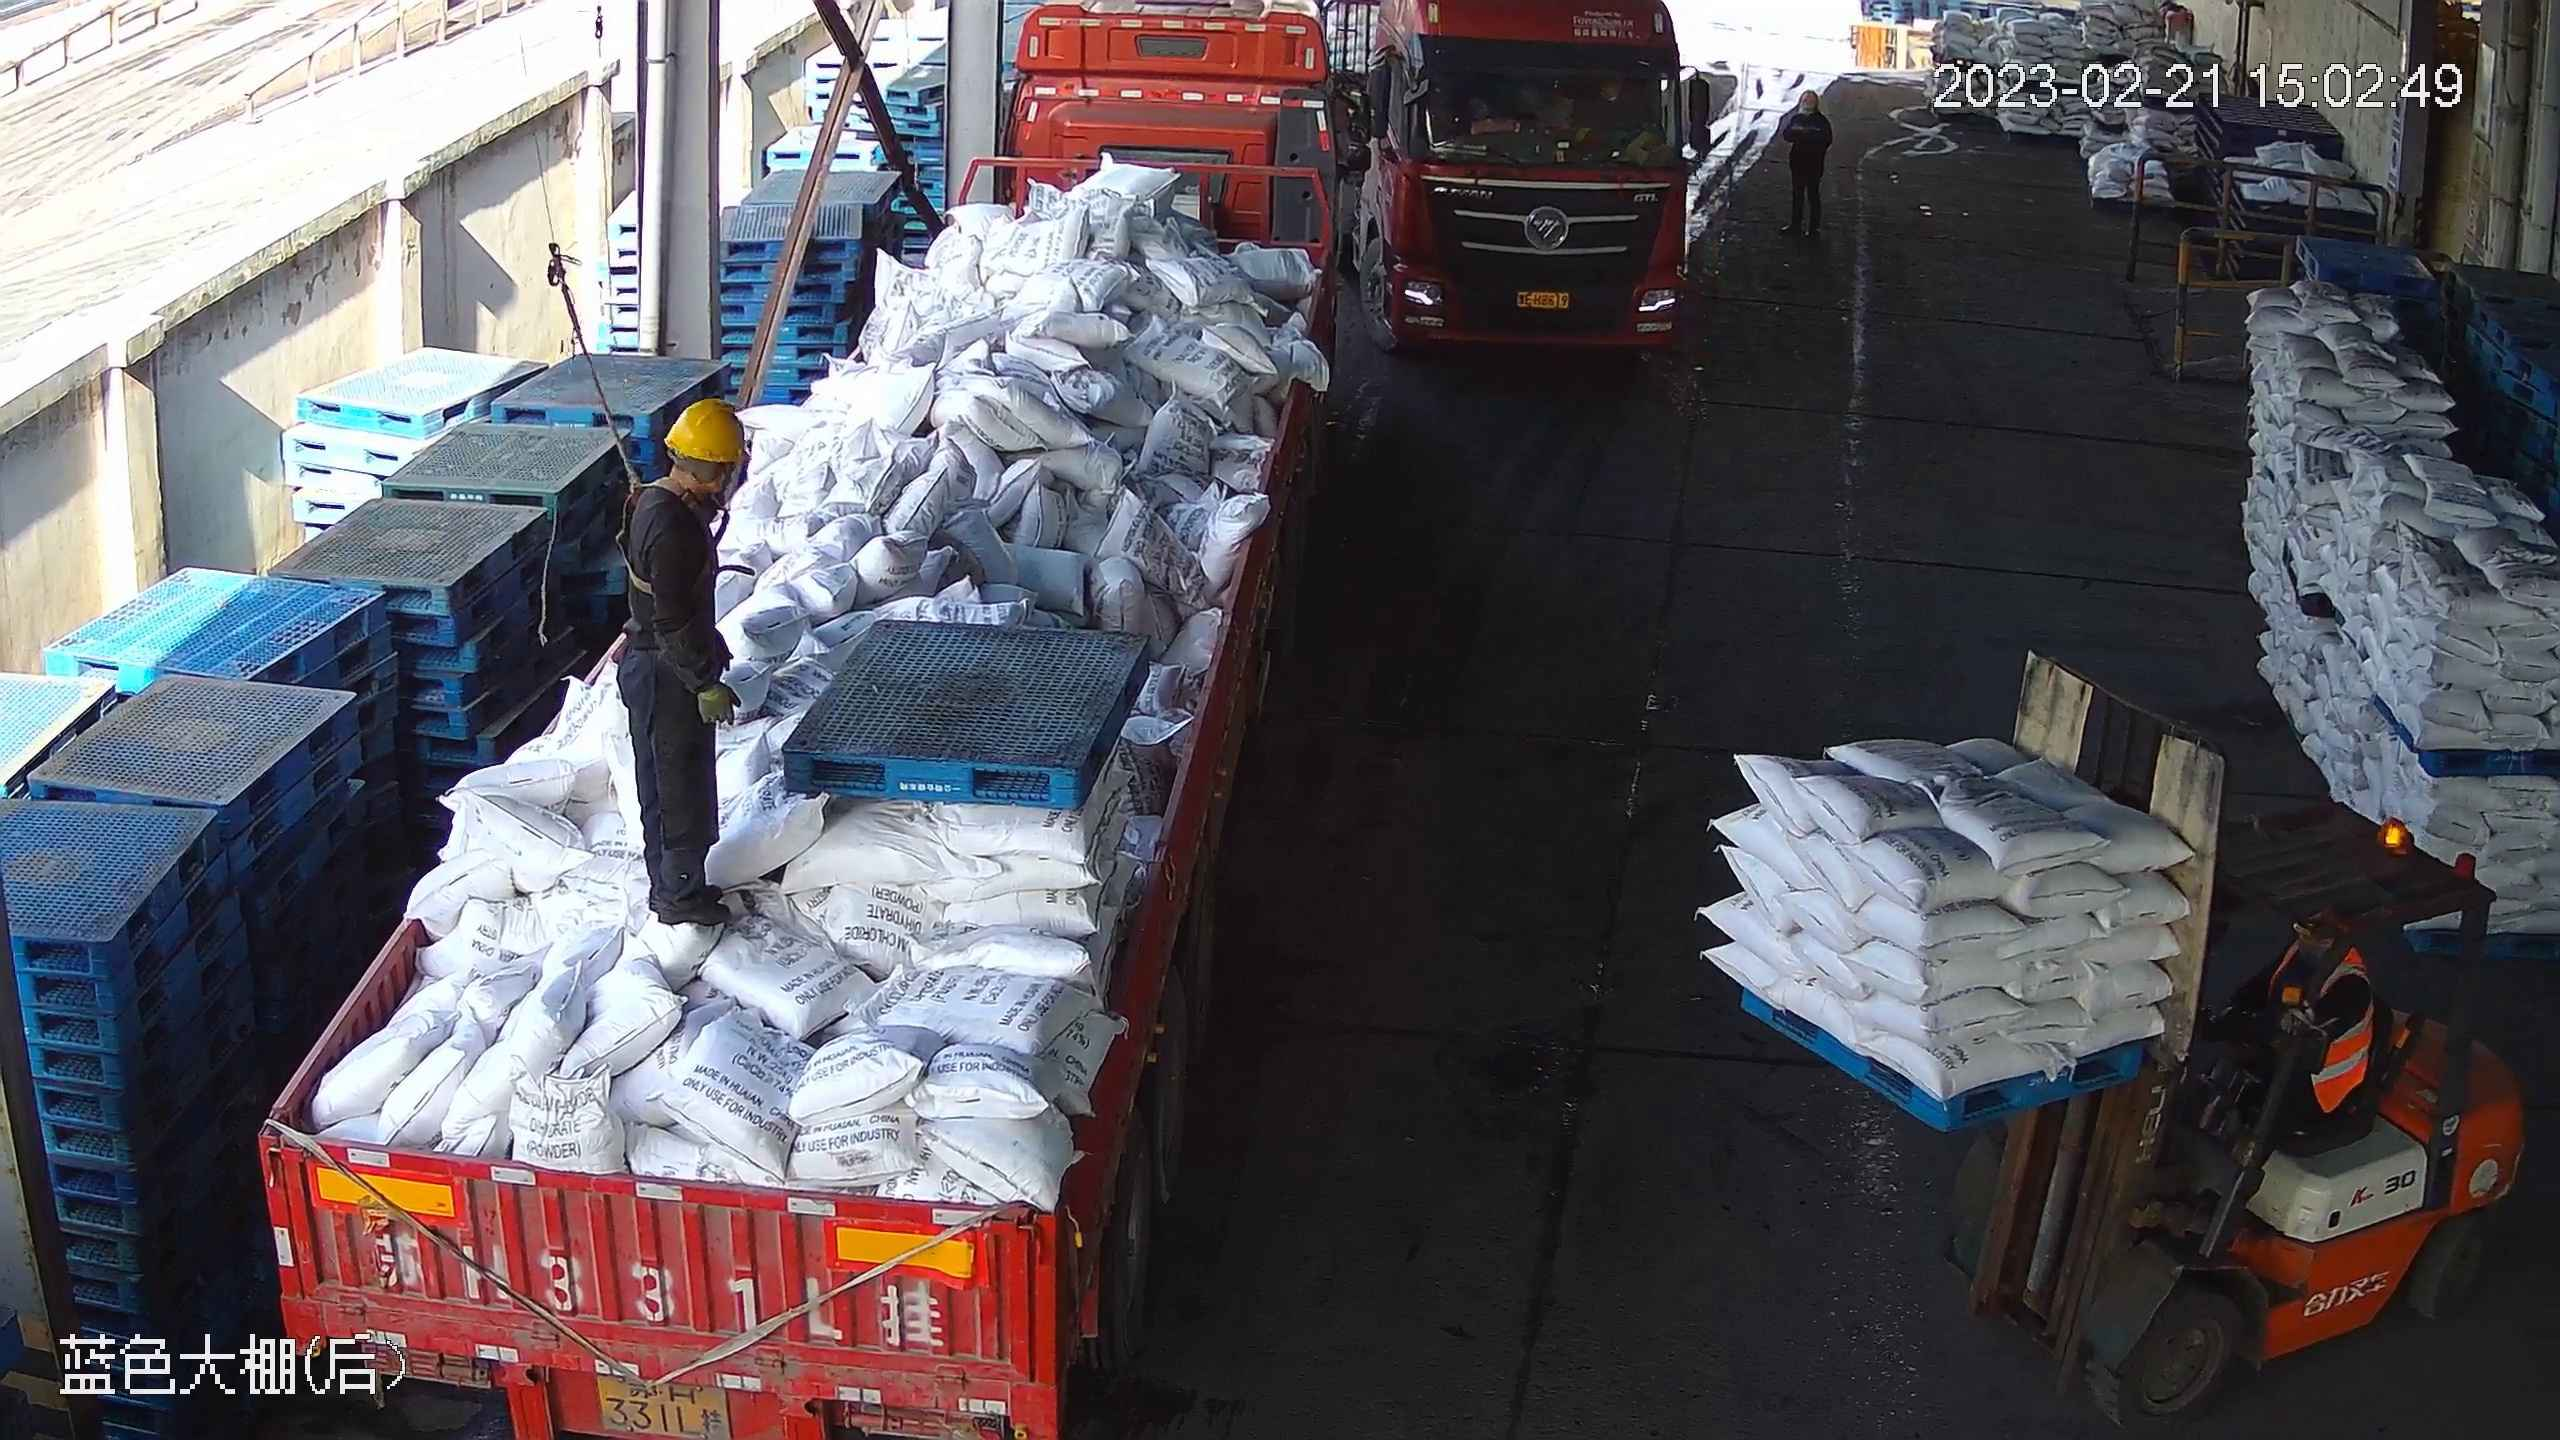belt: (600, 483, 716, 608)
head: (620, 402, 749, 550), (1786, 86, 1828, 139)
helmet: (663, 401, 748, 469), (1795, 88, 1818, 109)
people: (601, 402, 751, 937), (1777, 85, 1834, 241)
truck: (249, 2, 1377, 1440), (1335, 1, 1720, 441)
